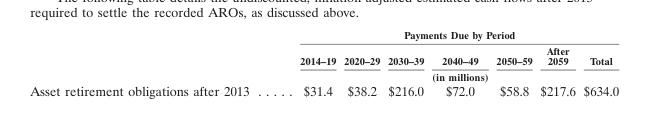table: (29, 28, 618, 98)
table column: (29, 28, 274, 98), (274, 28, 339, 98), (427, 28, 491, 98), (339, 28, 383, 98), (383, 28, 427, 98), (491, 28, 535, 98), (535, 28, 578, 98), (578, 28, 618, 98)
table column header: (29, 28, 618, 82)
table row: (29, 42, 618, 82), (29, 82, 618, 98), (29, 28, 618, 42)
table spanning cell: (274, 28, 618, 42)
